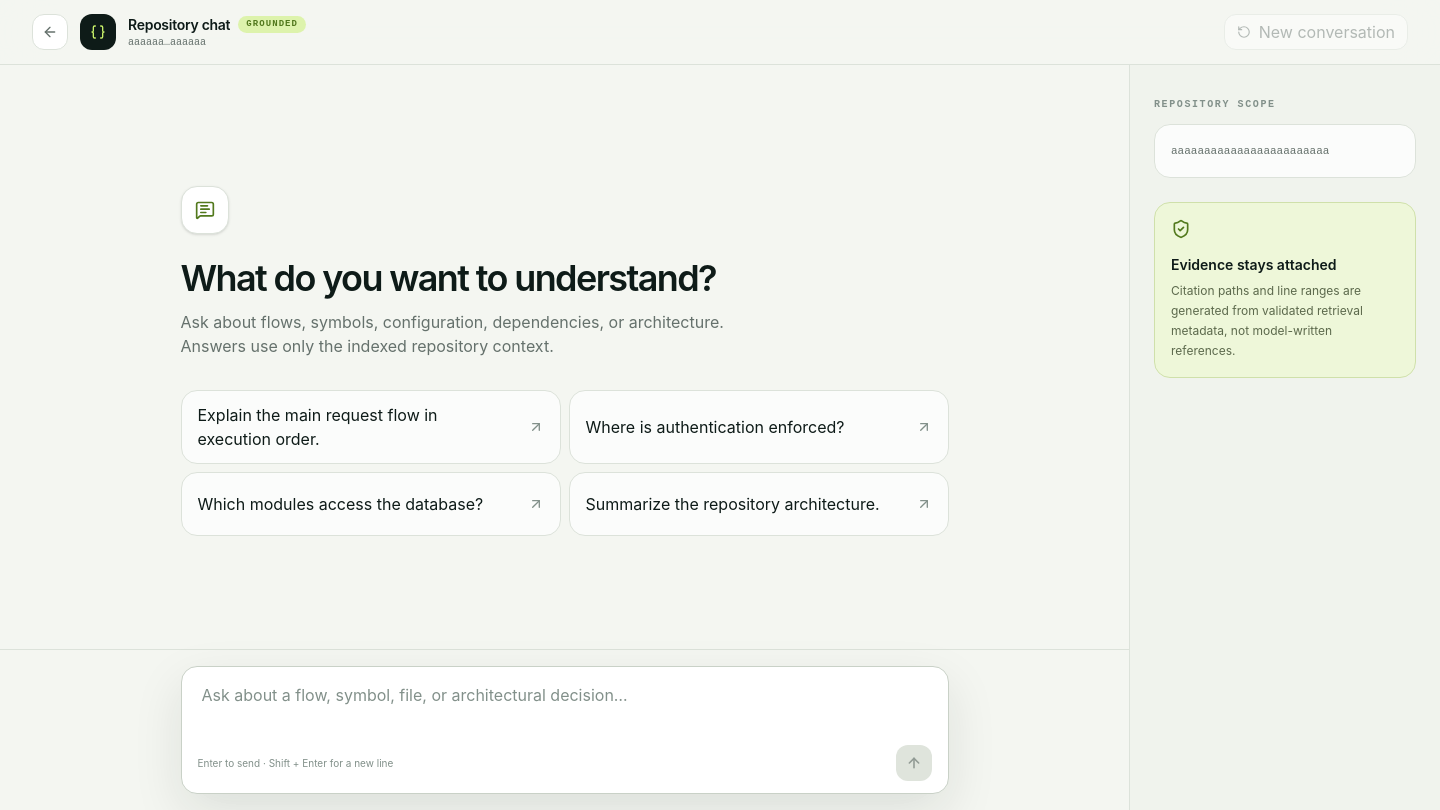
RepositoryChat › submits a question and renders Markdown with validated source cards
Type "How does authentication work?" into the text box named "Ask a question about this repository".
click(564, 707); type("How does authentication work?")  # box [190,675,940,739]
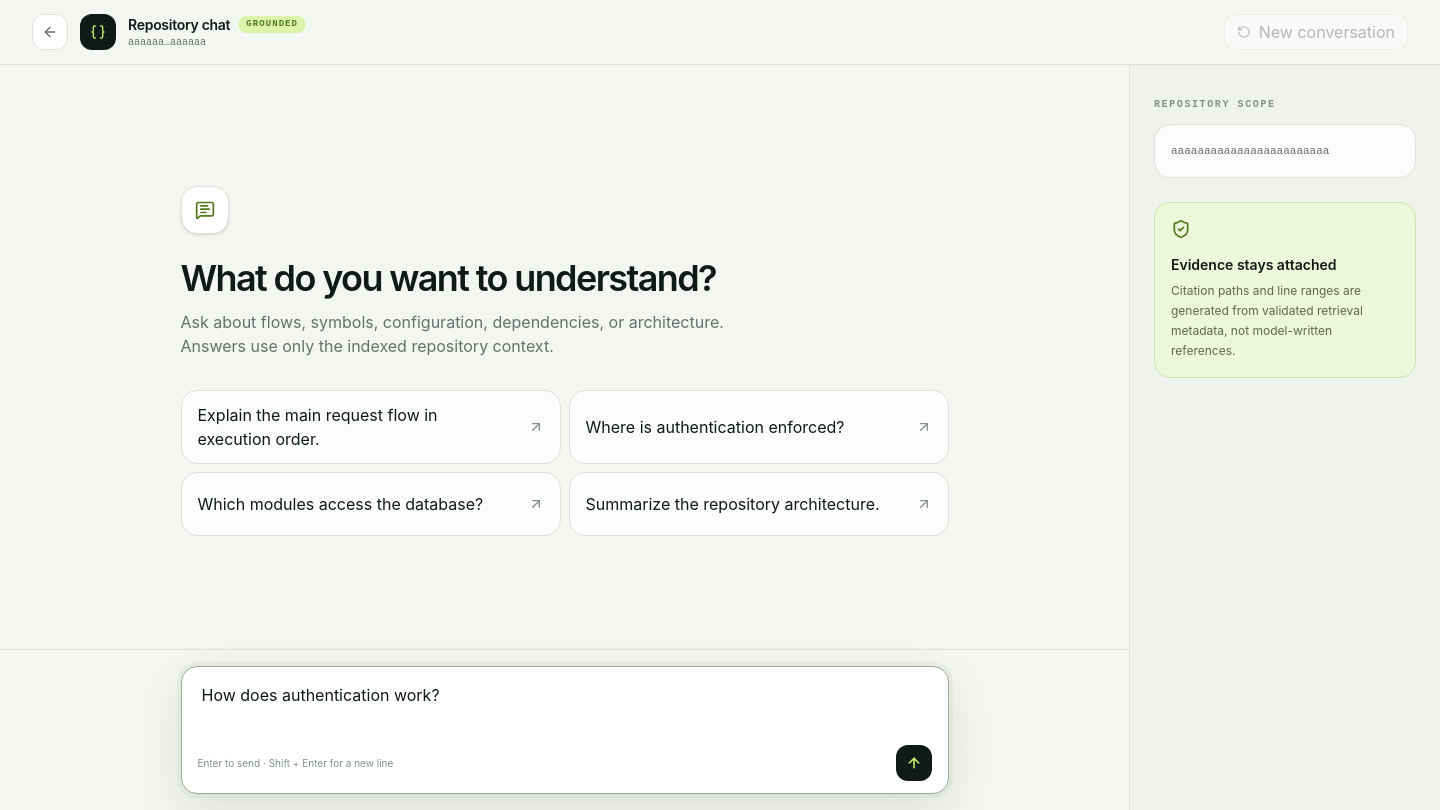
Click the button named "Send question".
click(914, 763)  # box [896,745,932,781]
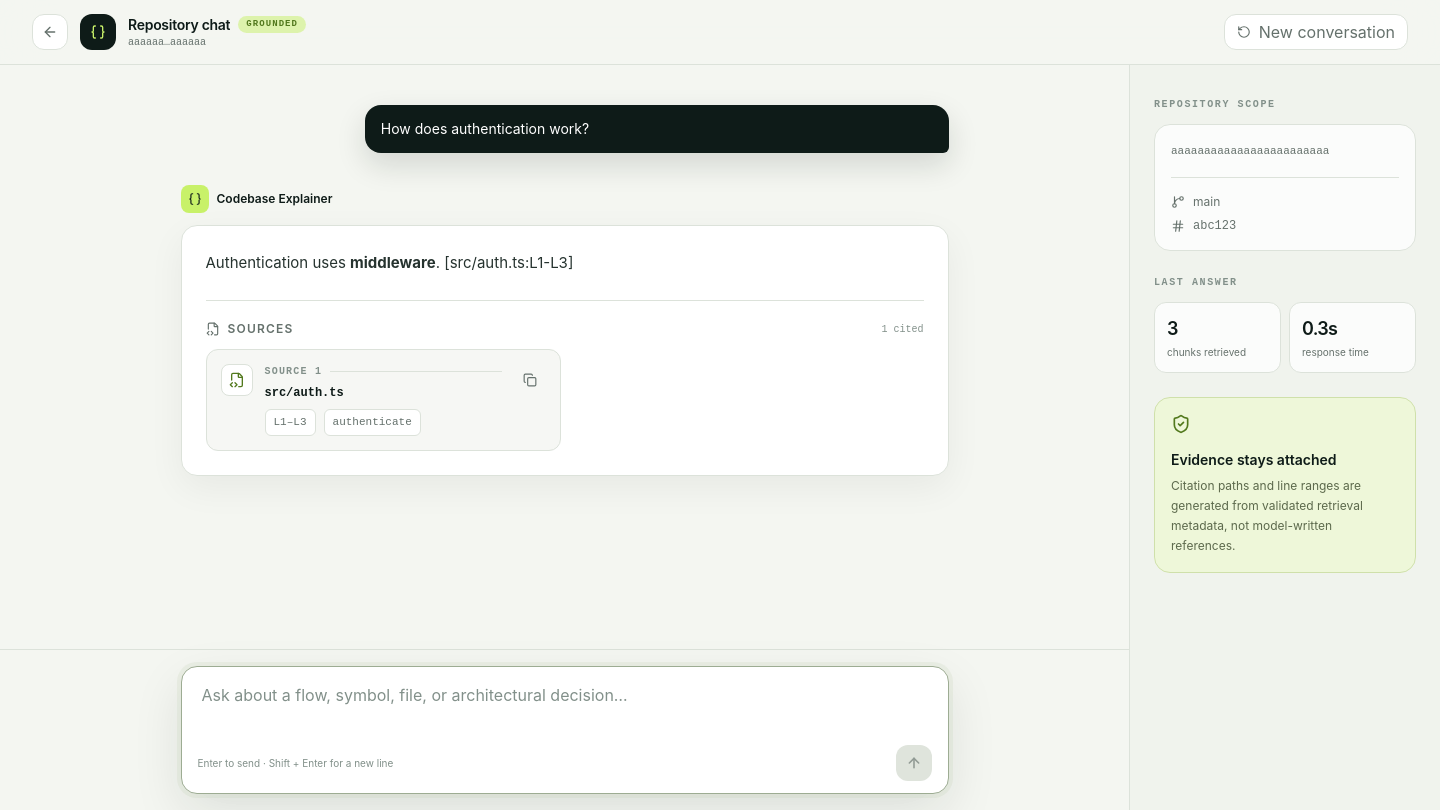
expect the text "middleware" is shown: met, box [350,253,436,272]
expect the text "src/auth.ts" is shown: met, box [264,386,344,400]
expect the text "L1–L3" is shown: met, box [264,409,316,436]
